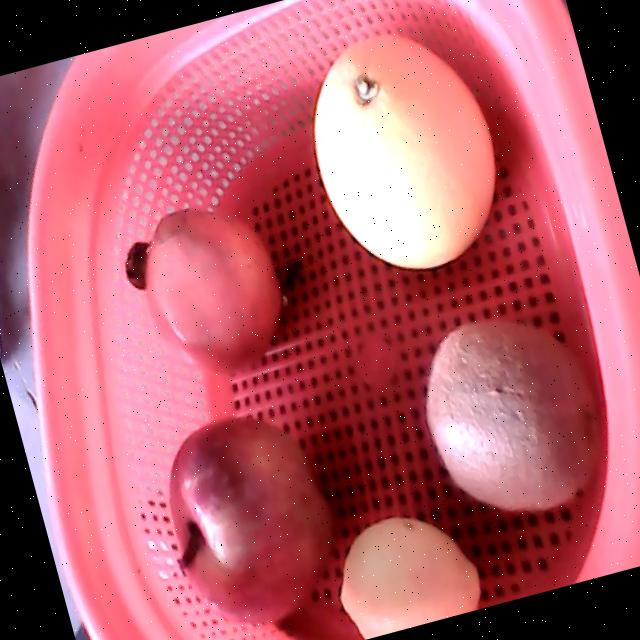apple: (167, 413, 337, 624)
kiwi: (424, 318, 603, 511)
lemon: (339, 516, 480, 639)
orange: (313, 31, 496, 268)
pomegranate: (124, 206, 282, 376)
